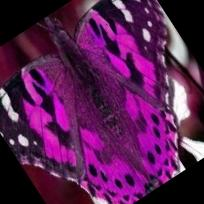butterfly: (0, 0, 183, 204)
